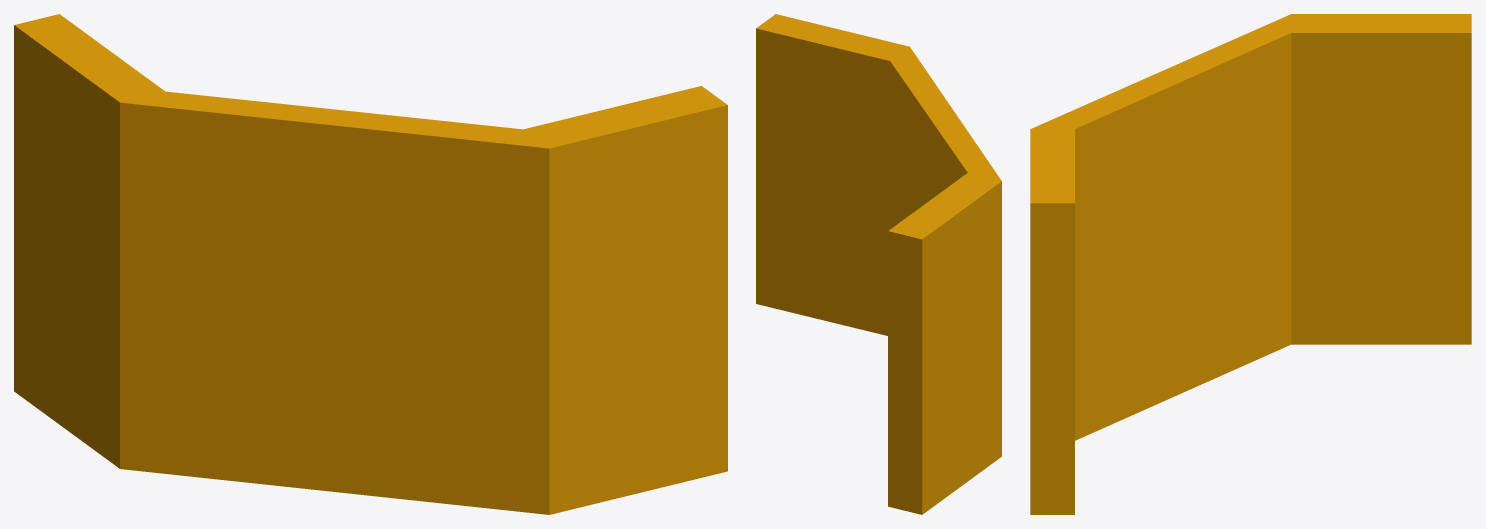
The model's file is Corner Wall Air.fbx.
3 views of the same model, side by side, from view 1: azimuth 30°, elevation 25°; view 2: azimuth 150°, elevation 25°; view 3: azimuth 270°, elevation 25° (orthographic). The views are drawn at different scales.
Visible parts, largest first — view 1: Cube.018; view 2: Cube.018; view 3: Cube.018.
Boxes of the visible parts, x1,y1,x2,y2 form: Cube.018: (14, 14, 727, 514); Cube.018: (756, 14, 1001, 514); Cube.018: (1030, 14, 1471, 514).
Size of the model in its own units: 259 by 200 by 257.
